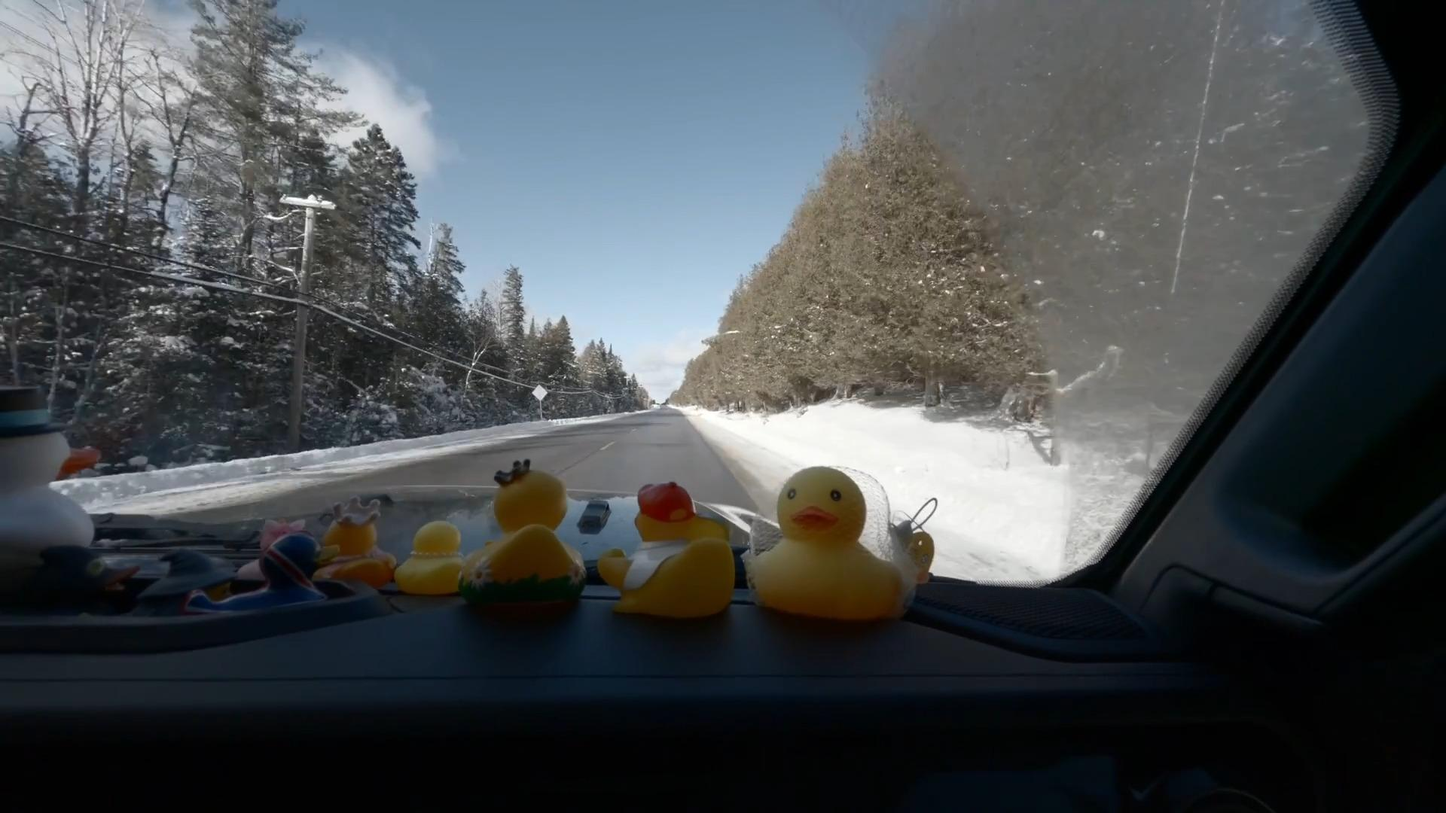Snow: (685, 397, 1124, 583), (53, 413, 636, 514)
dry: (129, 406, 778, 524)
